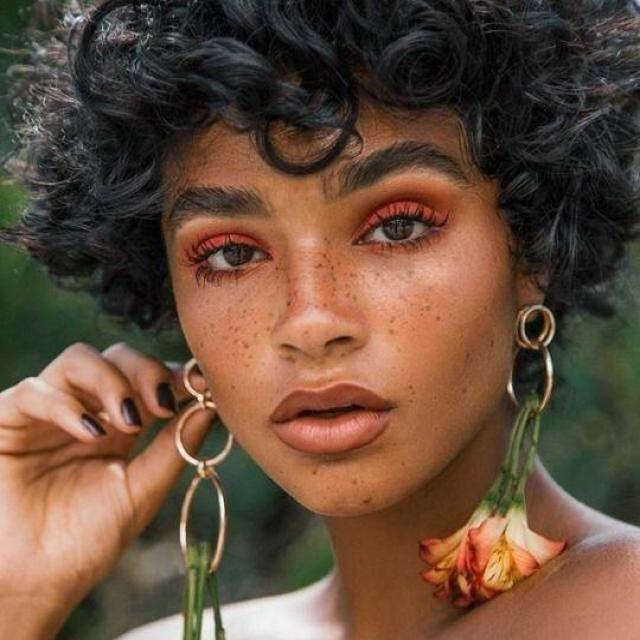freckle: (207, 245, 467, 378)
